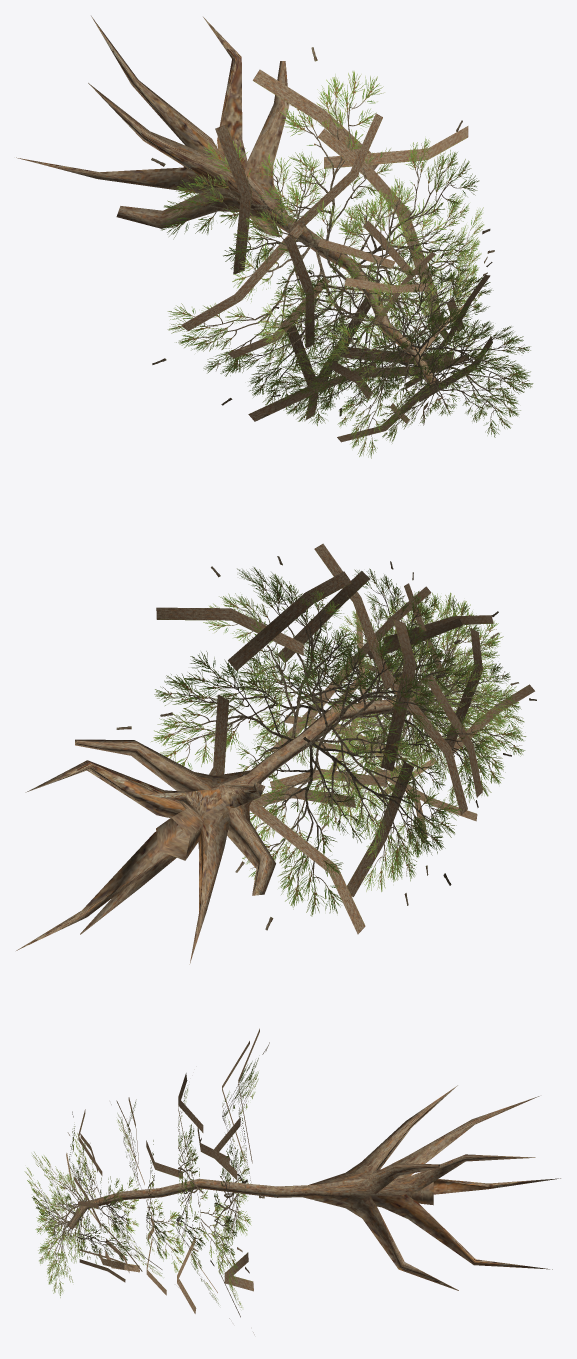
Rendered from Swamp_Tree_2 1.fbx.
3 renders of one model, top to bottom at view 1: azimuth 30°, elevation 25°; view 2: azimuth 150°, elevation 25°; view 3: azimuth 270°, elevation 25°, orthographic. The views are drawn at different scales.
Visible parts, largest first — view 1: Swamp_Tree_2; view 2: Swamp_Tree_2; view 3: Swamp_Tree_2.
Boxes of the visible parts, x1=… form: Swamp_Tree_2: x1=16, y1=16, x2=533, y2=458; Swamp_Tree_2: x1=16, y1=543, x2=536, y2=964; Swamp_Tree_2: x1=24, y1=1028, x2=560, y2=1334.
Size of the model in its own units: 614 by 652 by 1031.
